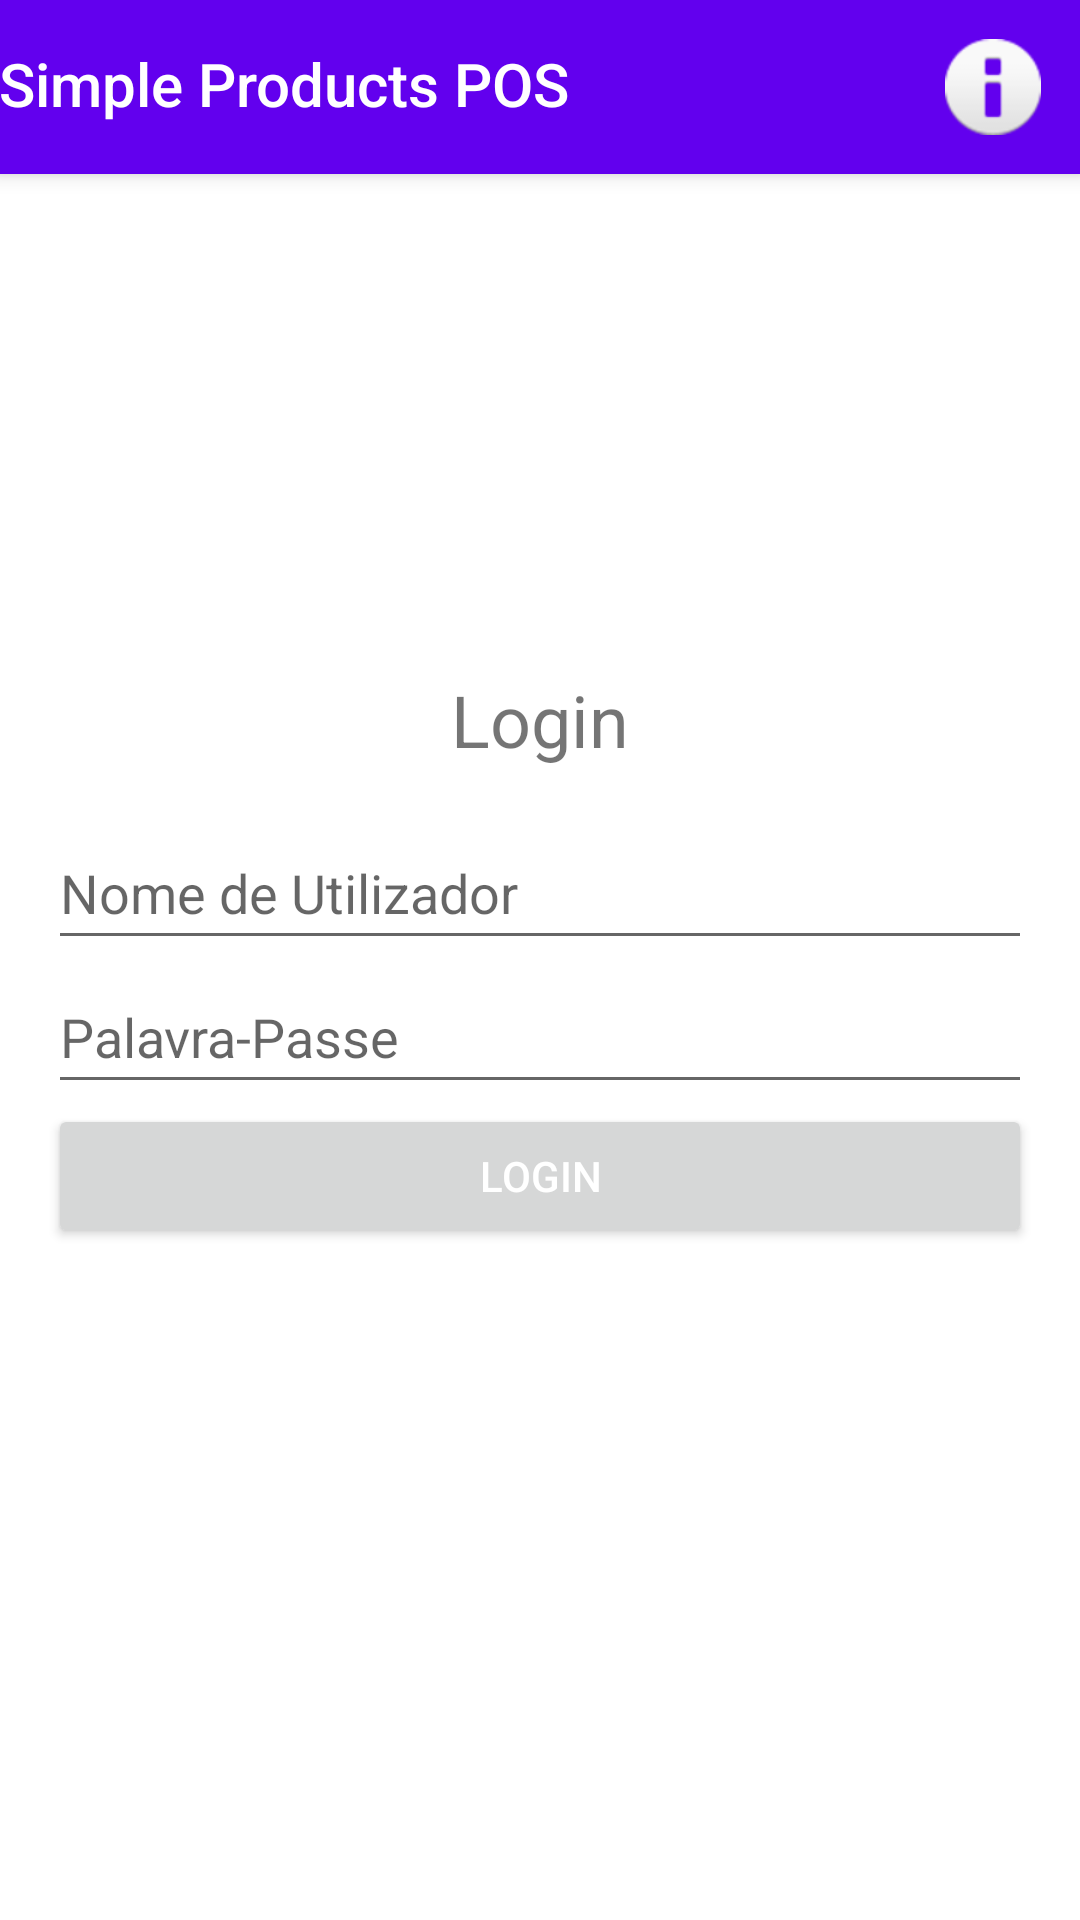

Screen size 1080x1920. Icon name, then its center in pixels as point (x, y):
info: point (993, 87)
